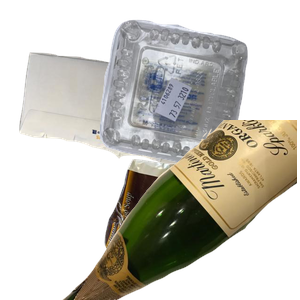glass: (60, 120, 300, 300)
paper: (17, 50, 231, 230)
plastic: (97, 17, 300, 176)
trash: (101, 157, 270, 300)
